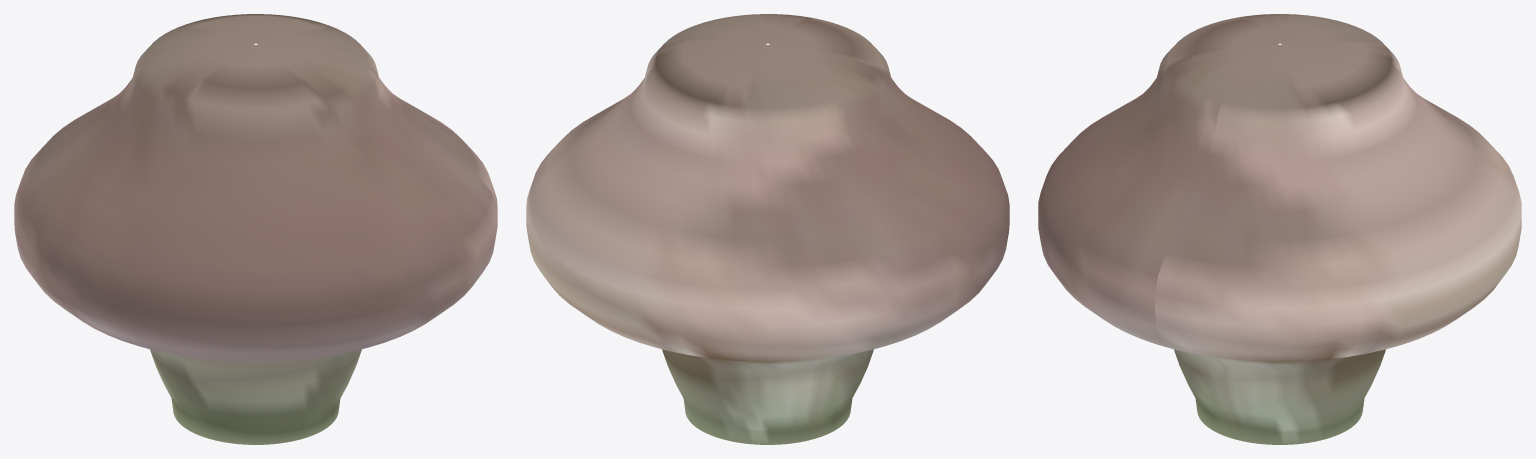
Rendered from mushroom-1.glb.
3 renders of one model, left to right at view 1: azimuth 30°, elevation 25°; view 2: azimuth 150°, elevation 25°; view 3: azimuth 270°, elevation 25°, orthographic.
Visible parts, largest first — view 1: mushroom-1; view 2: mushroom-1; view 3: mushroom-1.
Boxes of the visible parts, x1,y1,x2,y2 form: mushroom-1: (14, 14, 497, 444); mushroom-1: (526, 14, 1009, 444); mushroom-1: (1038, 14, 1521, 444).
Bounding box in the file's own units: 0.3039 × 0.2538 × 0.3039.
